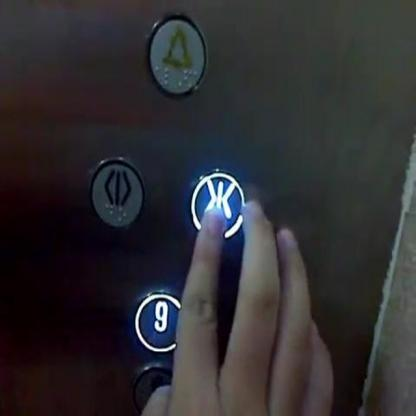9: (133, 289, 185, 354)
alarm: (143, 9, 207, 98)
close: (187, 165, 245, 241)
open: (88, 151, 145, 235)
